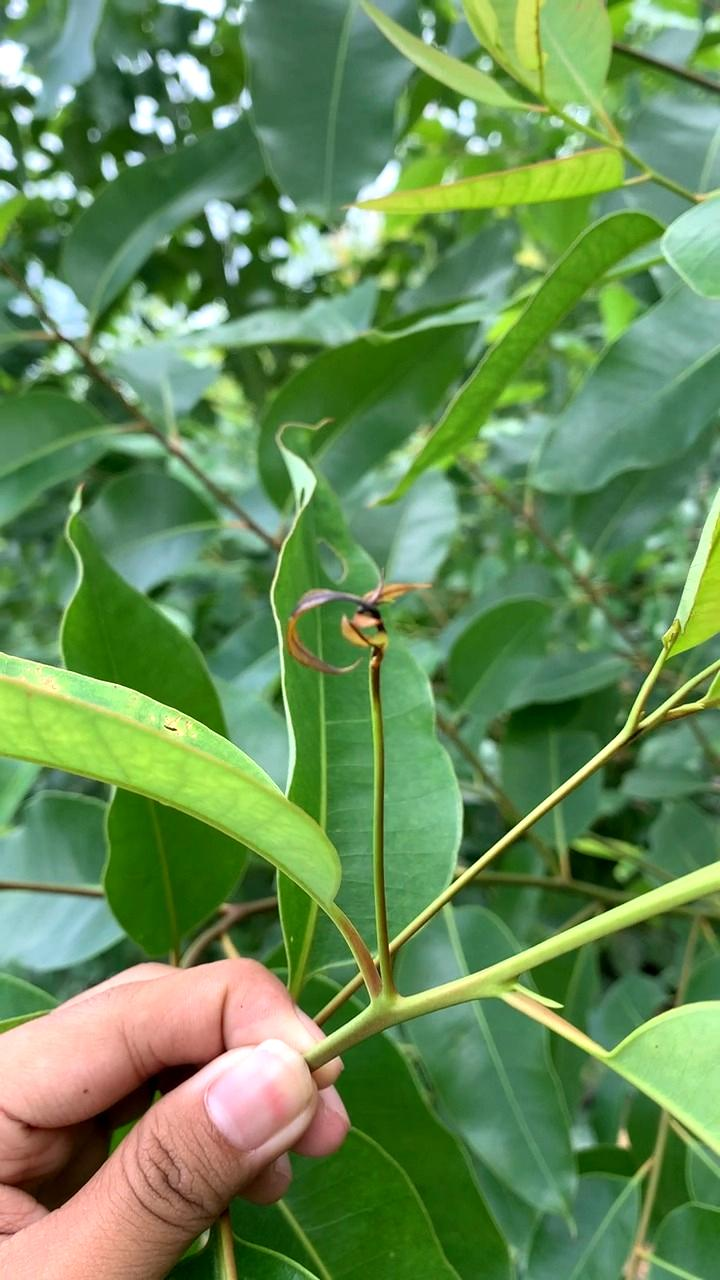Helopeltis-Withered Sprout: (273, 568, 415, 677)
